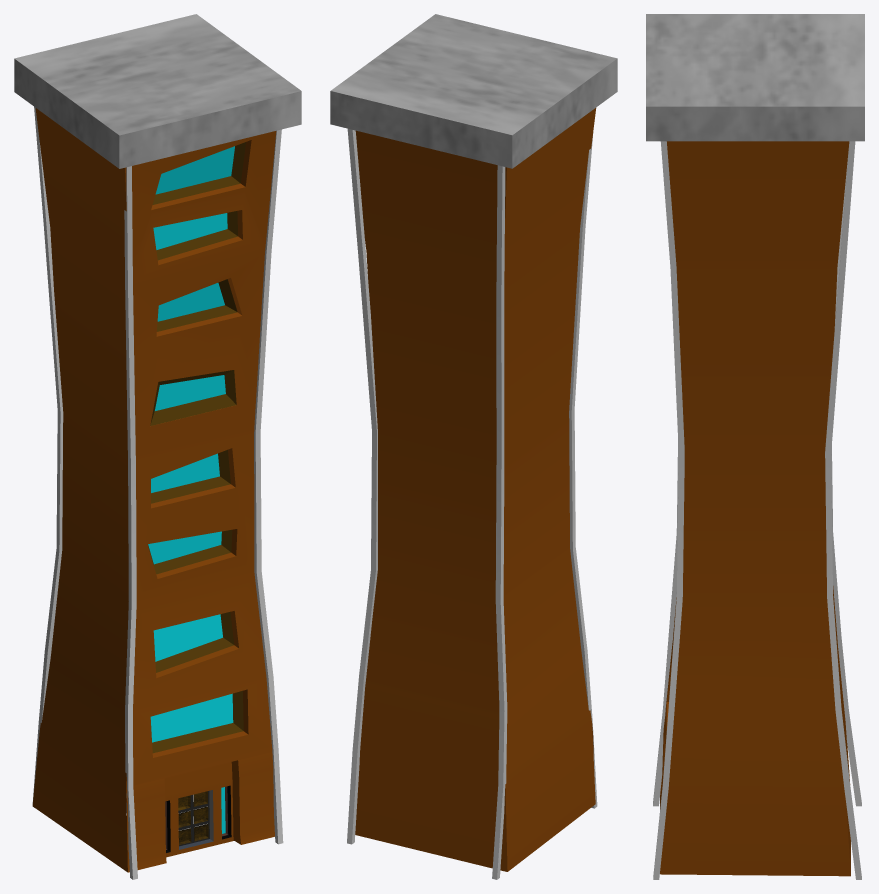
Rendered from PredioAltoFino-LaranjaEscuroLOD0.fbx.
3 renders of one model, left to right at view 1: azimuth 30°, elevation 25°; view 2: azimuth 150°, elevation 25°; view 3: azimuth 270°, elevation 25°, orthographic. The views are drawn at different scales.
Parts seen in each view (by area): view 1: PredioAltoFinoLOD0; view 2: PredioAltoFinoLOD0; view 3: PredioAltoFinoLOD0.
Boxes of the visible parts, bbox=[...] form: PredioAltoFinoLOD0: bbox=[14, 14, 301, 879]; PredioAltoFinoLOD0: bbox=[330, 14, 617, 879]; PredioAltoFinoLOD0: bbox=[646, 14, 864, 879].
Bounding box in the file's own units: 635 × 2498 × 635.
